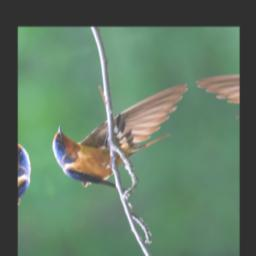Swallow: (42, 81, 211, 209)
